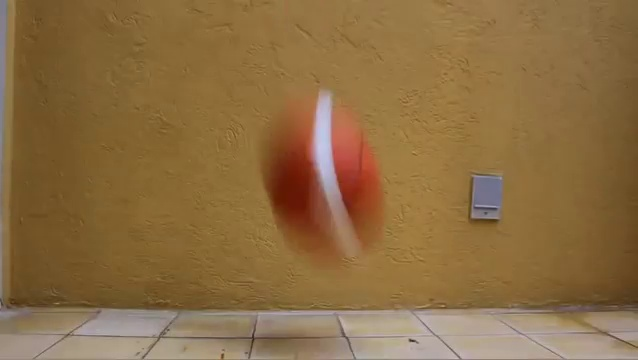ball: (258, 88, 397, 270)
